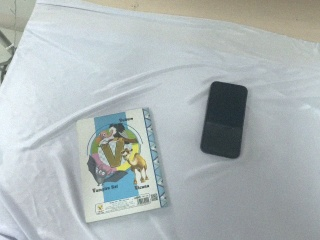book: (76, 107, 169, 224)
phone: (200, 81, 248, 160)
